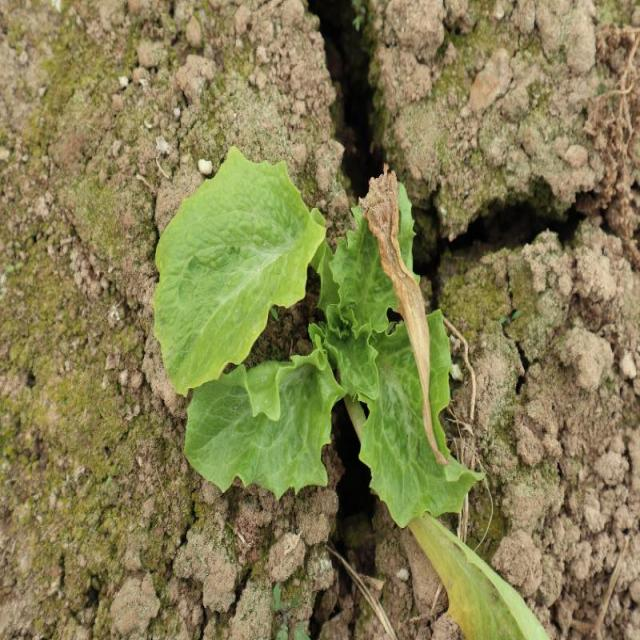crop: (141, 144, 485, 526)
